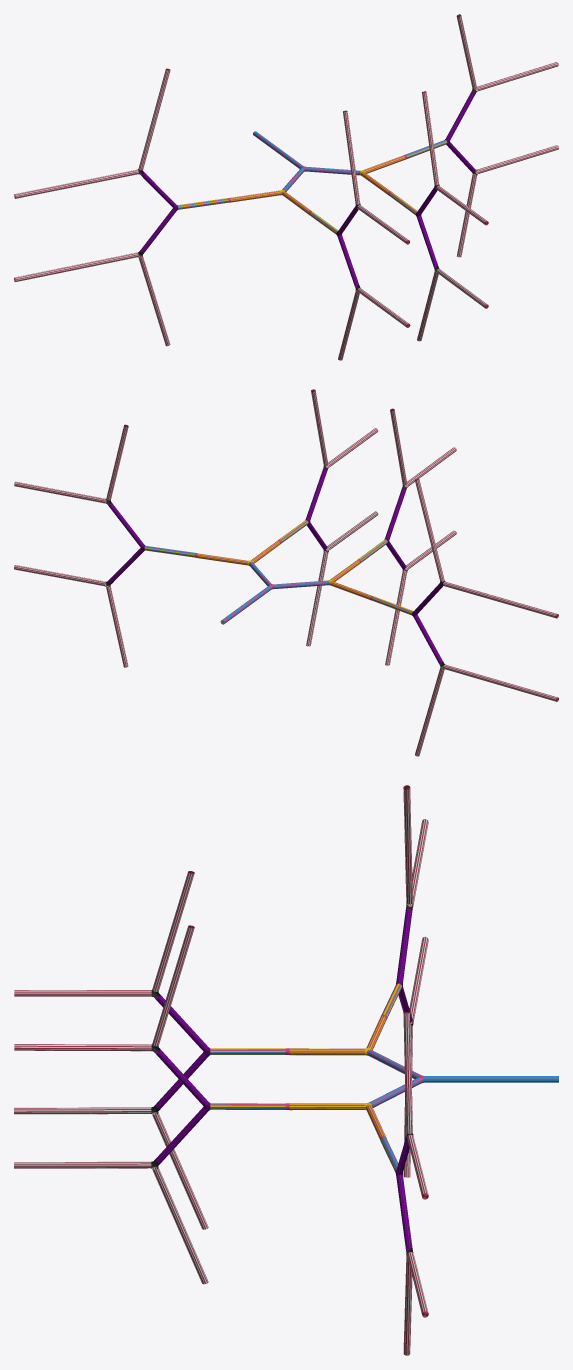
The model's file is mod_level_full_v2.fbx.
3 renders of one model, top to bottom at view 1: azimuth 30°, elevation 25°; view 2: azimuth 150°, elevation 25°; view 3: azimuth 270°, elevation 25°, orthographic. The views are drawn at different scales.
Parts seen in each view (by area): view 1: mod_tunnel; view 2: mod_tunnel; view 3: mod_tunnel.
Boxes of the visible parts, x1,y1,x2,y2 form: mod_tunnel: (14,14,558,360); mod_tunnel: (14,389,558,756); mod_tunnel: (14,785,558,1355).
Size of the model in its own units: 14711 by 7153 by 9030.
